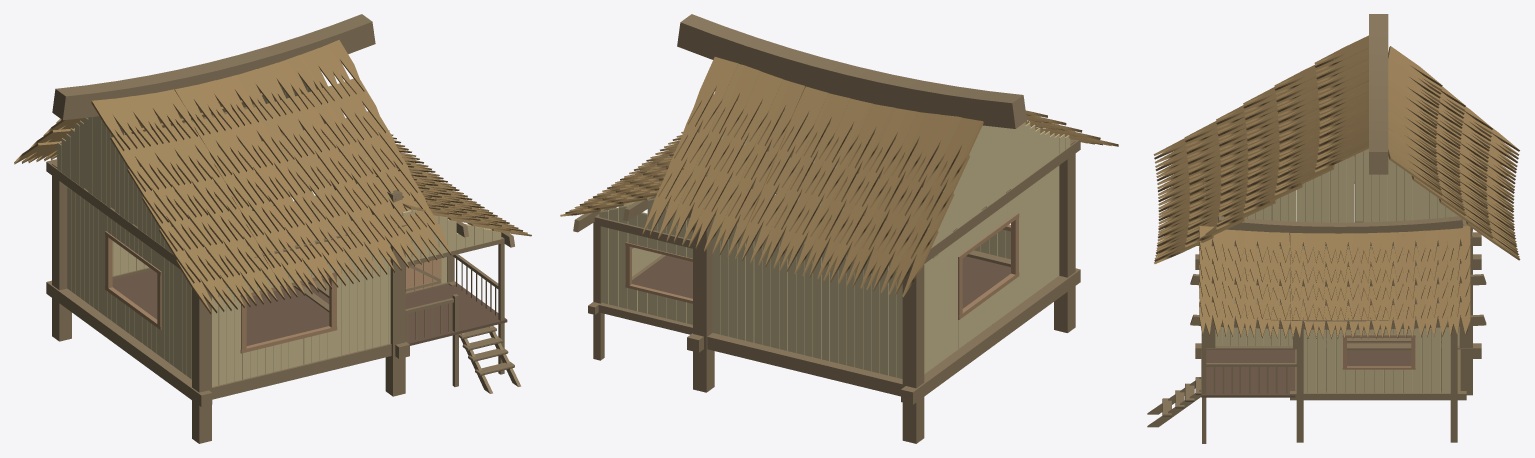
The model's file is Kubo2.fbx.
3 renders of one model, left to right at view 1: azimuth 30°, elevation 25°; view 2: azimuth 150°, elevation 25°; view 3: azimuth 270°, elevation 25°, orthographic. The views are drawn at different scales.
Visible parts, largest first — view 1: polySurface1083; view 2: polySurface1083; view 3: polySurface1083.
Part boxes in pixels (x1,y1,x2,y2): polySurface1083: (14,14,531,443); polySurface1083: (560,14,1118,443); polySurface1083: (1147,14,1520,443).
Size of the model in its own units: 30.61 by 22.94 by 28.26.
